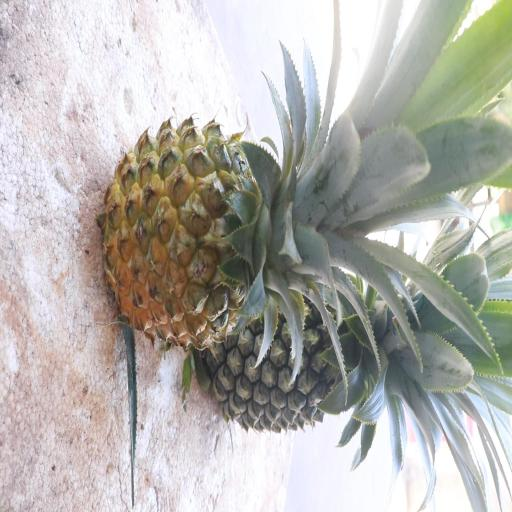Pineapple - v8 v1: (101, 108, 340, 352)
